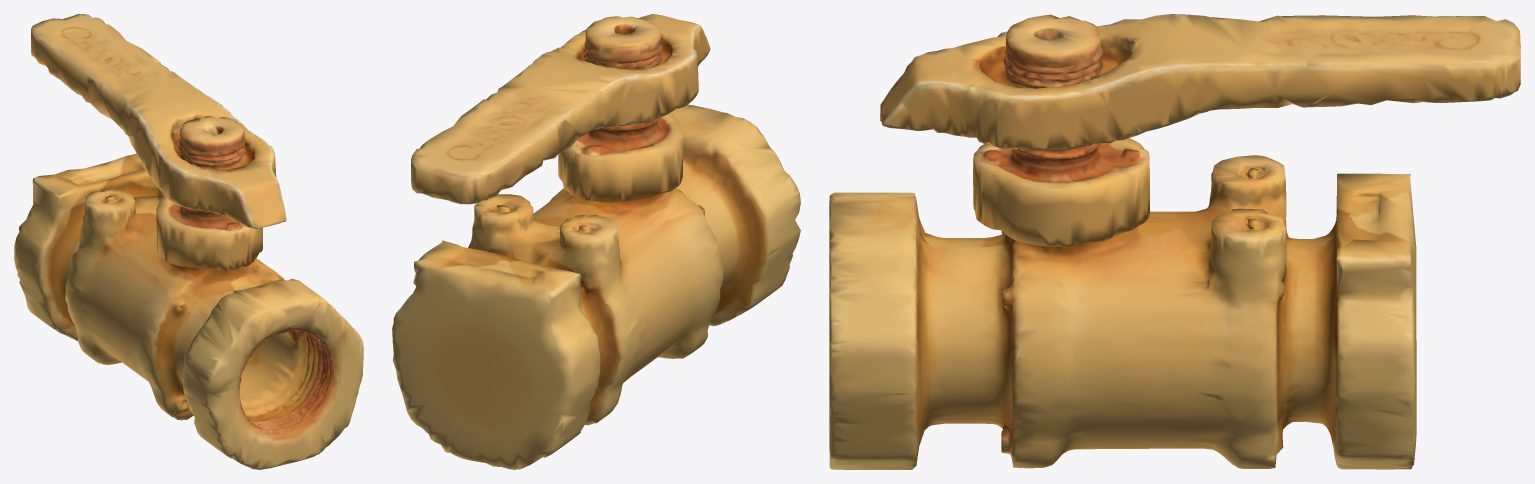
Rendered from fuel_shutoff_valve.glb.
3 views of the same model, side by side, from view 1: azimuth 30°, elevation 25°; view 2: azimuth 150°, elevation 25°; view 3: azimuth 270°, elevation 25° (orthographic). The views are drawn at different scales.
Visible parts, largest first — view 1: model; view 2: model; view 3: model.
Part boxes in pixels (left/top/right/bottom): model: left=14, top=14, right=363, bottom=469; model: left=392, top=14, right=800, bottom=469; model: left=829, top=14, right=1520, bottom=469.
Bounding box in the file's own units: 0.723 × 1.26 × 1.89.
1 material, 1 textured.
